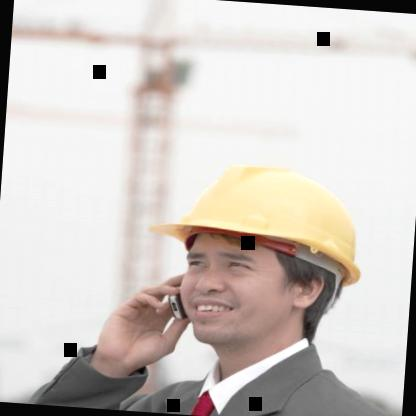helmet: (137, 128, 392, 373)
